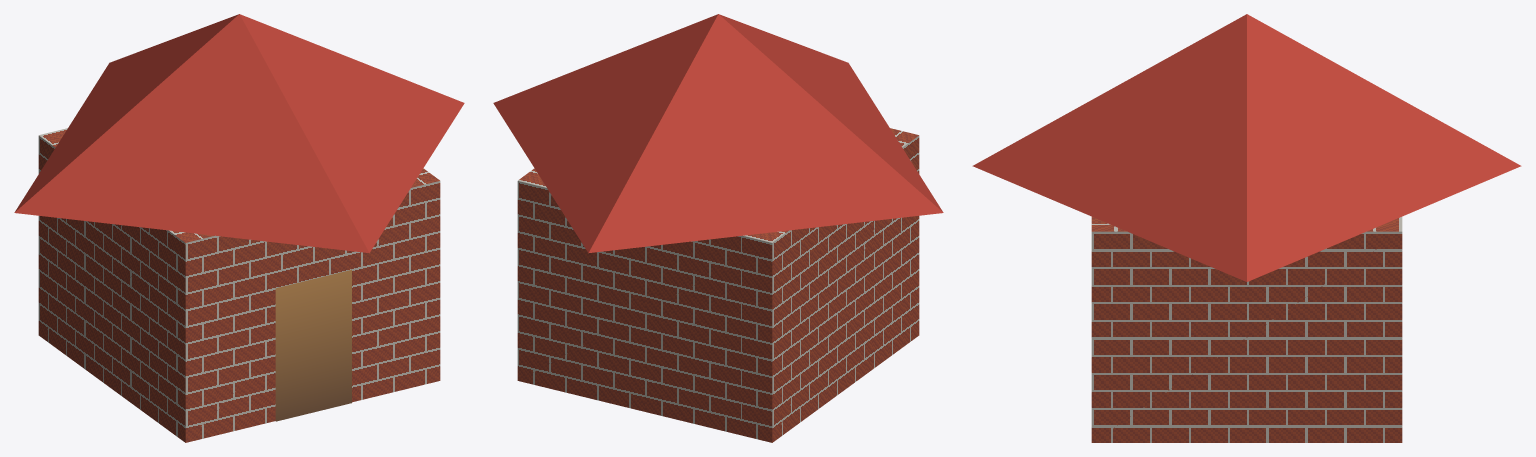
Rendered from house.gltf.
3 views of the same model, side by side, from view 1: azimuth 30°, elevation 25°; view 2: azimuth 150°, elevation 25°; view 3: azimuth 270°, elevation 25° (orthographic). The views are drawn at different scales.
Parts seen in each view (by area): view 1: Roof, Base, Door; view 2: Base, Roof; view 3: Roof, Base.
Part boxes in pixels (left/top/right/bottom): Roof: left=14, top=14, right=464, bottom=253; Base: left=38, top=128, right=440, bottom=442; Door: left=275, top=270, right=351, bottom=421; Base: left=517, top=128, right=919, bottom=442; Roof: left=493, top=14, right=943, bottom=253; Roof: left=972, top=14, right=1521, bottom=281; Base: left=1091, top=217, right=1402, bottom=442.
Size of the model in its own units: 3.54 by 2.58 by 3.54.
3 materials, 1 textured.
